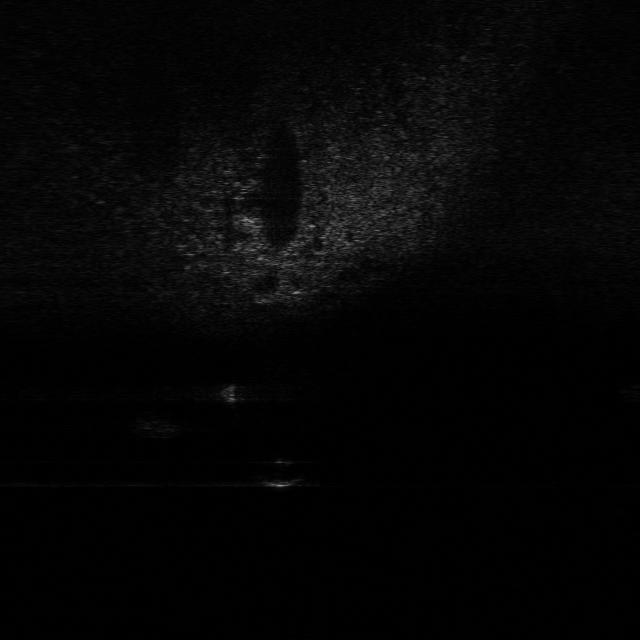ball: (250, 458, 306, 493)
circle cage: (127, 408, 201, 438)
cylinder: (218, 380, 238, 409)
